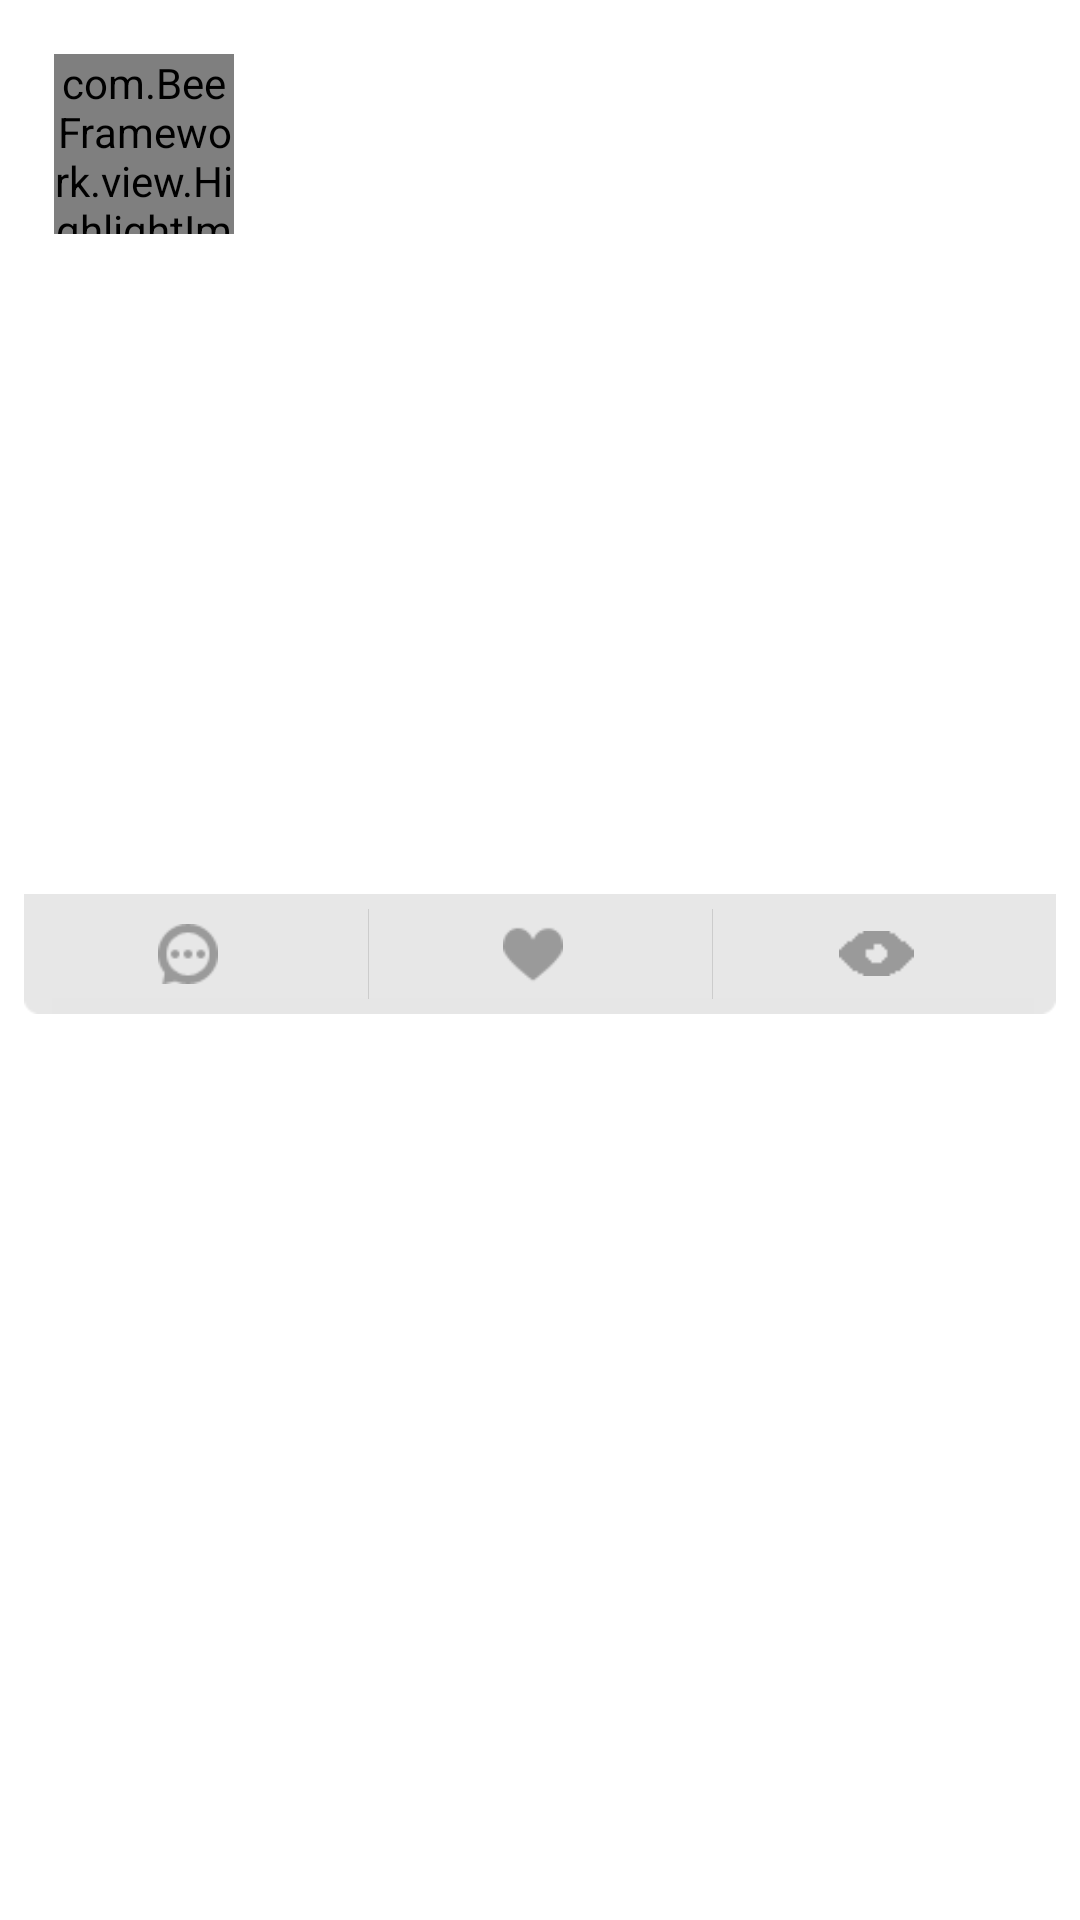

Where to tap for icons on this 1080×1920 app screen, as [x,y]:
comment: [188,954]
heart: [533,954]
